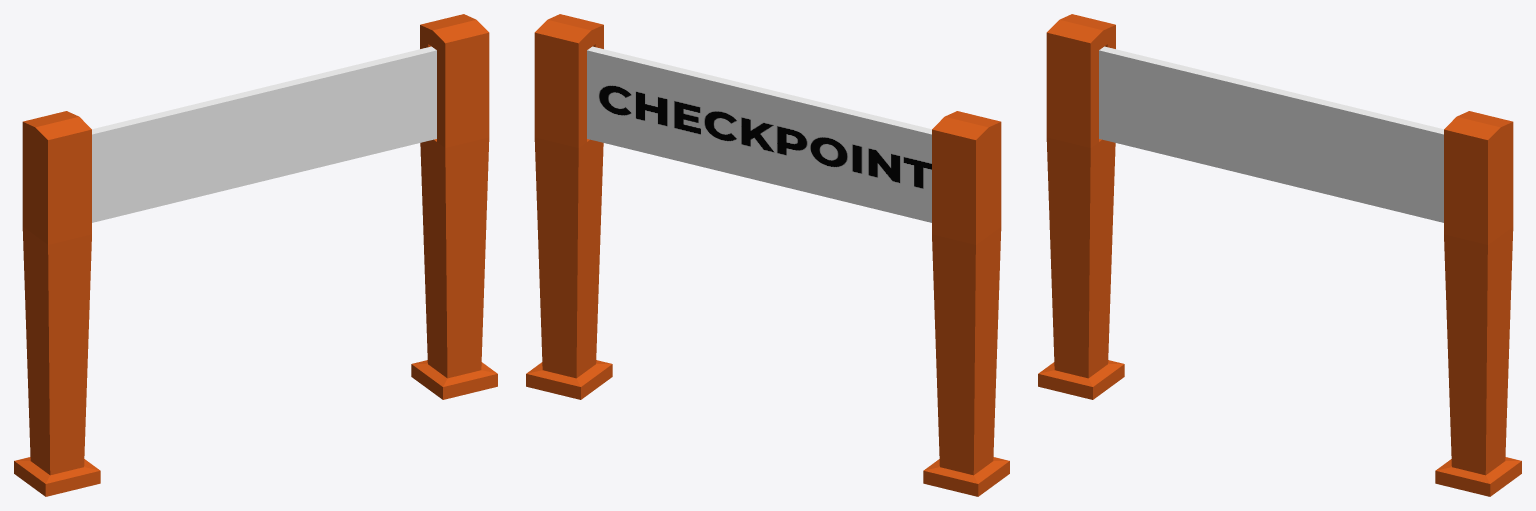
The model's file is Checkpoint.fbx.
3 views of the same model, side by side, from view 1: azimuth 30°, elevation 25°; view 2: azimuth 150°, elevation 25°; view 3: azimuth 330°, elevation 25° (orthographic).
Parts seen in each view (by area): view 1: Beams, Flag; view 2: Beams, Flag; view 3: Beams, Flag.
Part boxes in pixels (x1=…): Beams: x1=14, y1=14, x2=497, y2=496; Flag: x1=92, y1=46, x2=436, y2=222; Beams: x1=526, y1=14, x2=1009, y2=496; Flag: x1=587, y1=46, x2=931, y2=222; Beams: x1=1038, y1=14, x2=1521, y2=496; Flag: x1=1099, y1=46, x2=1443, y2=222.
Bounding box in the file's own units: 976 × 736 × 118.
